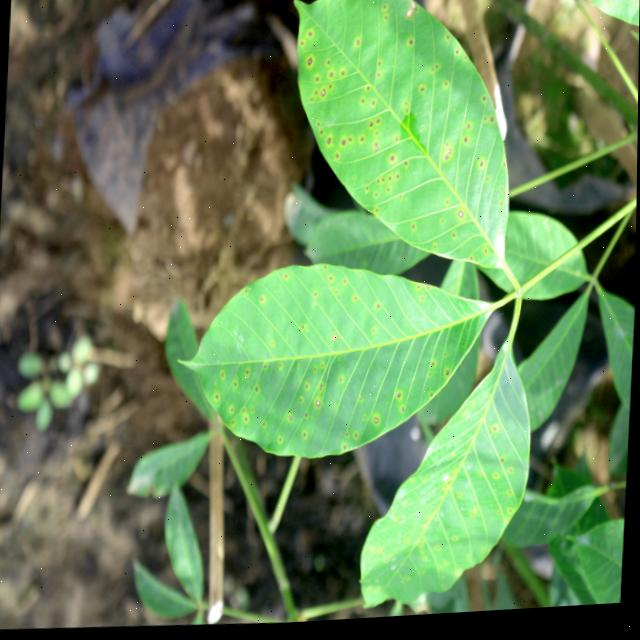Colletotrichum: (332, 337, 338, 345), (322, 93, 326, 101), (308, 61, 312, 69), (459, 216, 463, 223), (375, 421, 379, 428), (317, 403, 321, 410), (448, 153, 451, 160), (445, 160, 449, 164)
